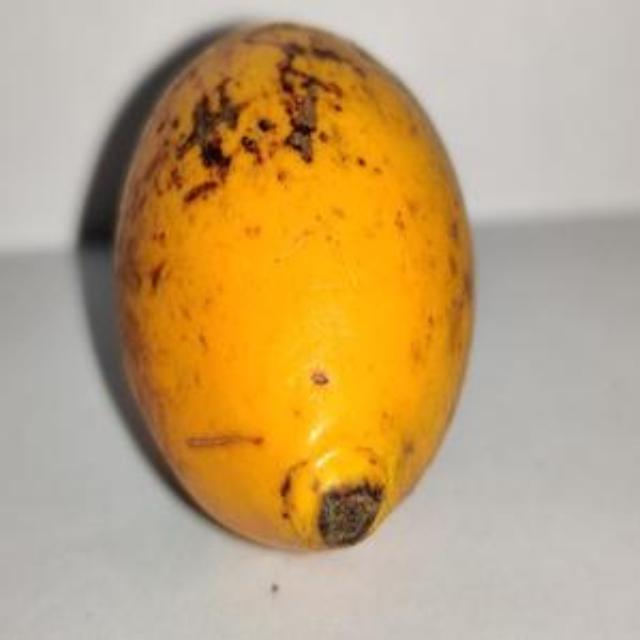good: (109, 21, 477, 554)
